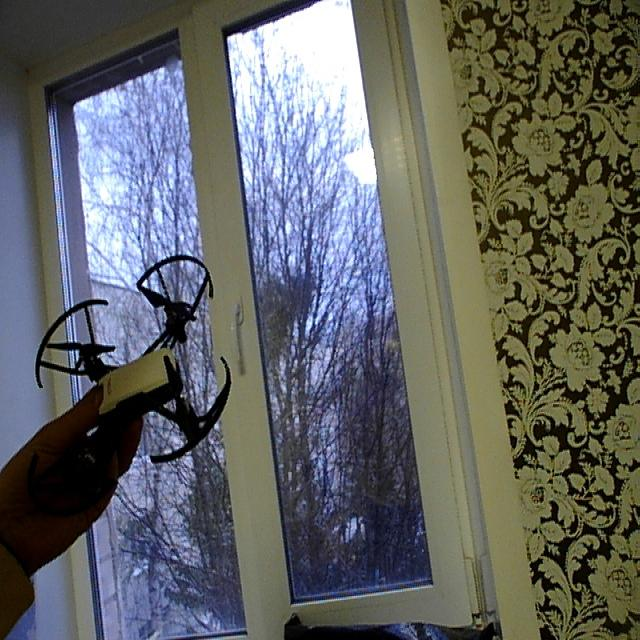drone: (27, 247, 241, 501)
